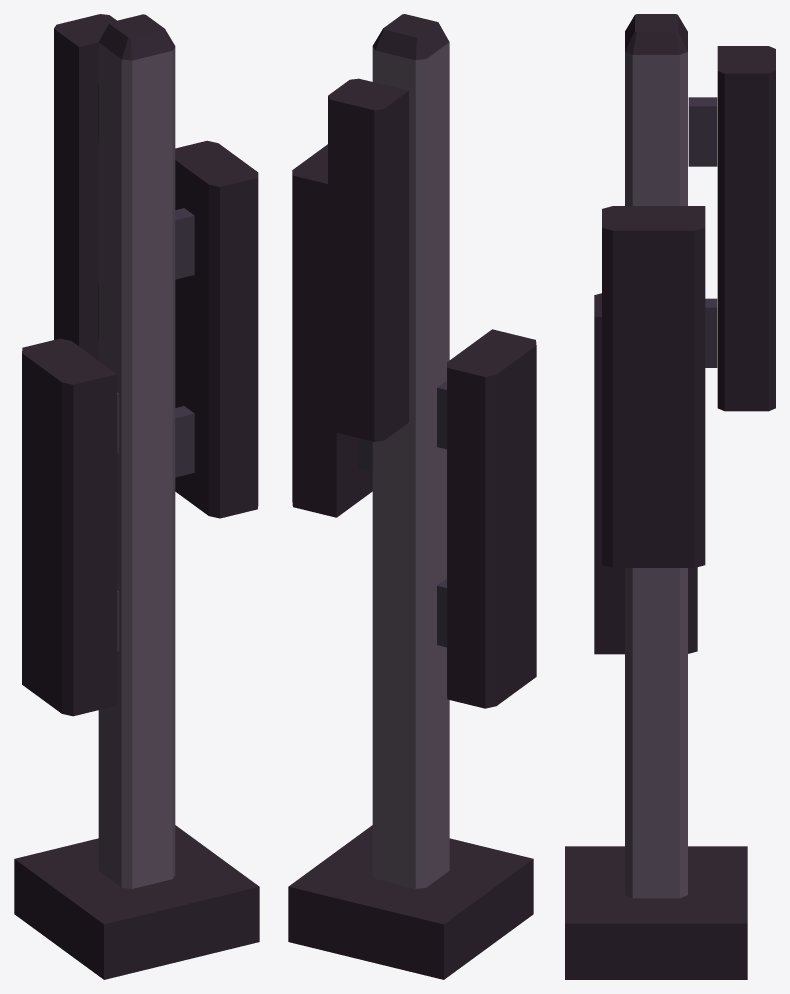
File: Bill-Board-1.fbx
3 renders of one model, left to right at view 1: azimuth 30°, elevation 25°; view 2: azimuth 150°, elevation 25°; view 3: azimuth 270°, elevation 25°, orthographic.
Visible parts, largest first — view 1: Cube.006; view 2: Cube.006; view 3: Cube.006.
Boxes of the visible parts, x1=… form: Cube.006: x1=14, y1=14, x2=259, y2=979; Cube.006: x1=288, y1=14, x2=536, y2=979; Cube.006: x1=565, y1=14, x2=775, y2=979.
Size of the model in its own units: 23.03 by 99.13 by 20.63.
